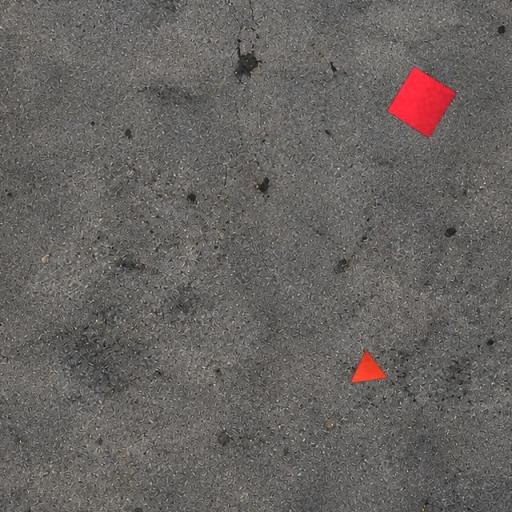RED_SQUARE: (386, 66, 458, 138)
